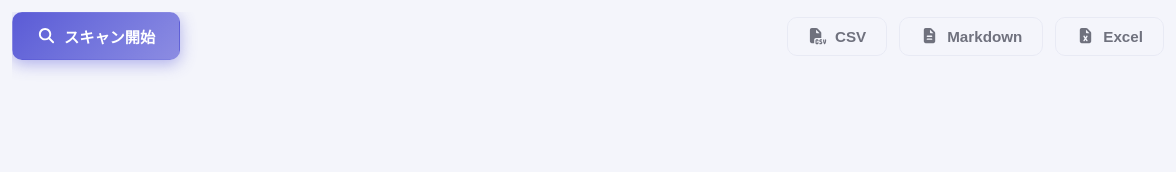
Test: ScanServicesPanel › 検出結果が0件の場合、空状態を表示する（エラー扱いにしない）
This screenshot has width=1176, height=172.
Click the button "スキャン開始".
click(96, 36)  # box [12,12,180,60]
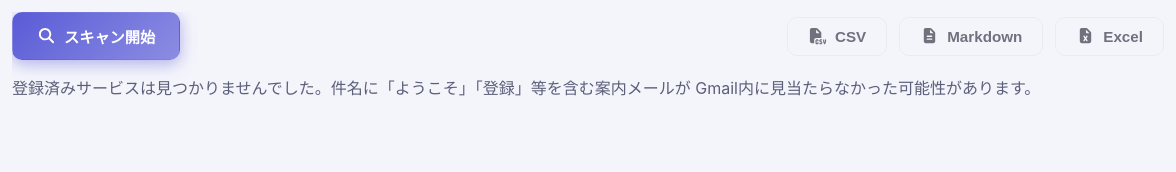
Expected: the text "登録済みサービスは見つかりませんでした" is shown, [12,78,1040,98]
